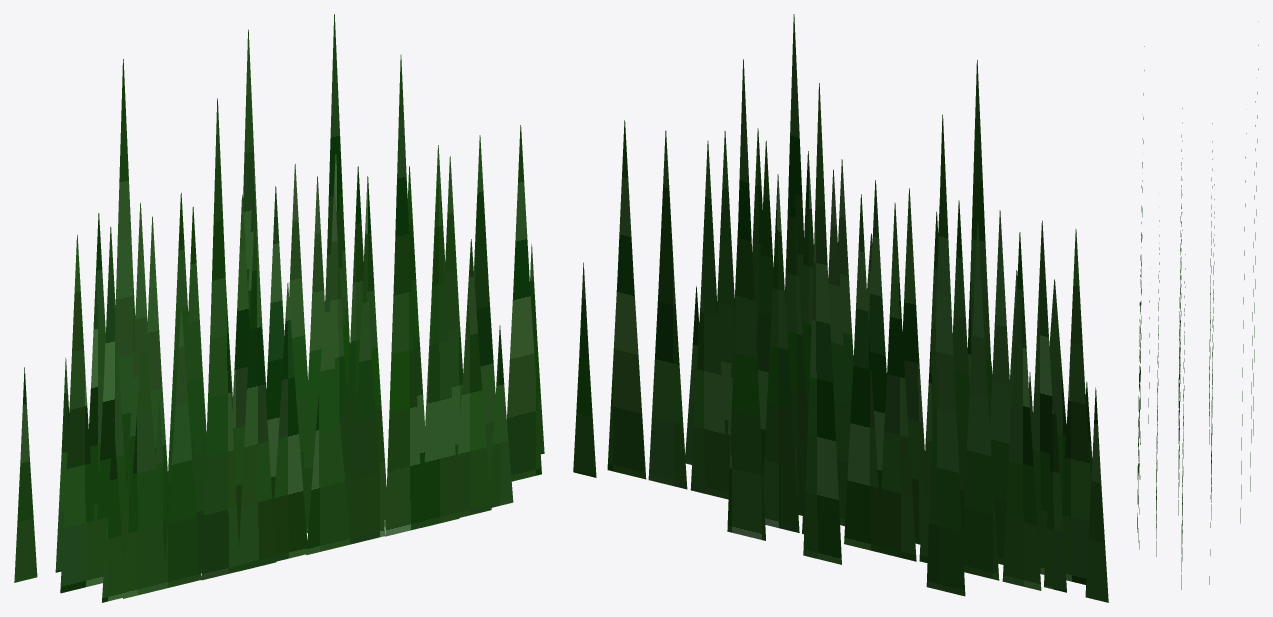
The model's file is Grass.fbx.
The picture shows the model from 3 angles, left to right: view 1: azimuth 30°, elevation 25°; view 2: azimuth 150°, elevation 25°; view 3: azimuth 270°, elevation 25°; orthographic projection. The views are drawn at different scales.
Parts seen in each view (by area): view 1: Grass; view 2: Grass; view 3: Grass.
Part boxes in pixels (<box>): Grass: <box>14,14,544,602</box>; Grass: <box>573,14,1108,602</box>; Grass: <box>1137,21,1258,589</box>.
Size of the model in its own units: 3.99 by 3.42 by 0.8945.
1 material, 1 textured.
